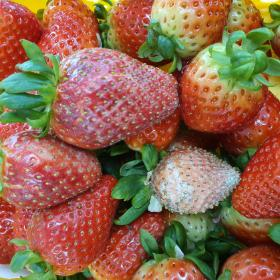Powdery Mildew Fruit: (47, 47, 179, 149), (0, 130, 102, 209), (150, 144, 242, 214)
